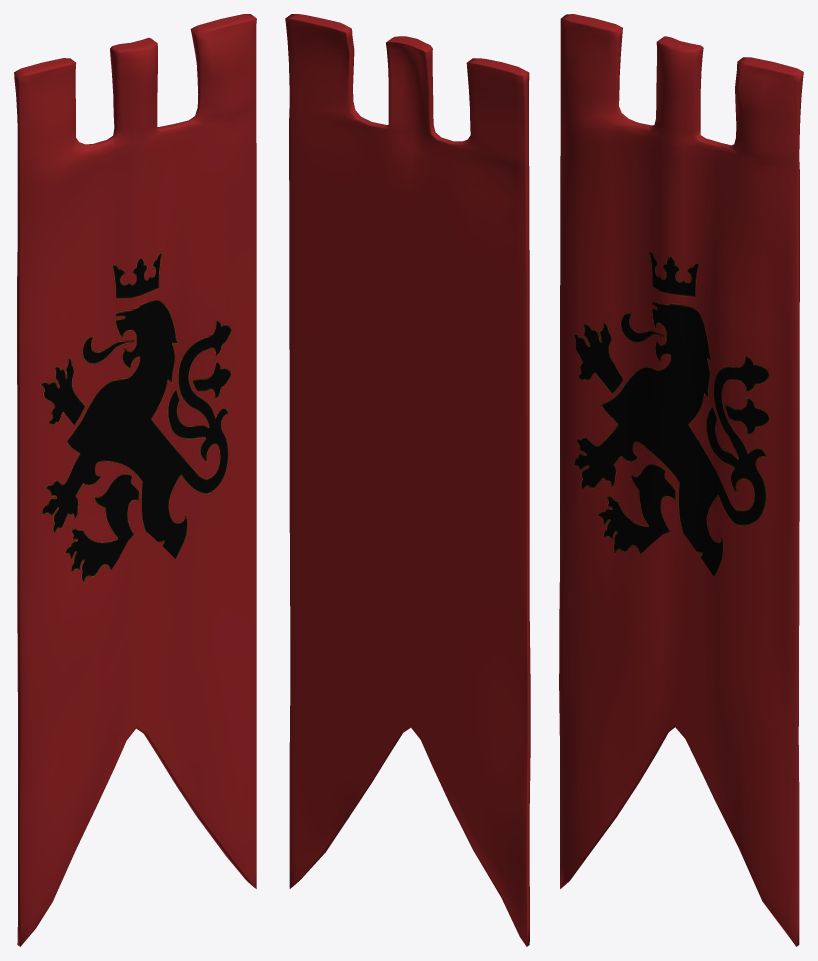
The model's file is kmu_flag_004.fbx.
3 renders of one model, left to right at view 1: azimuth 30°, elevation 25°; view 2: azimuth 150°, elevation 25°; view 3: azimuth 330°, elevation 25°, orthographic.
Parts seen in each view (by area): view 1: cloth1; view 2: cloth1; view 3: cloth1.
Boxes of the visible parts, x1=… form: cloth1: x1=14, y1=14, x2=256, y2=946; cloth1: x1=285, y1=14, x2=530, y2=946; cloth1: x1=559, y1=14, x2=803, y2=946.
Bounding box in the file's own units: 118 × 415 × 13.15.
2 materials, 2 textured.
